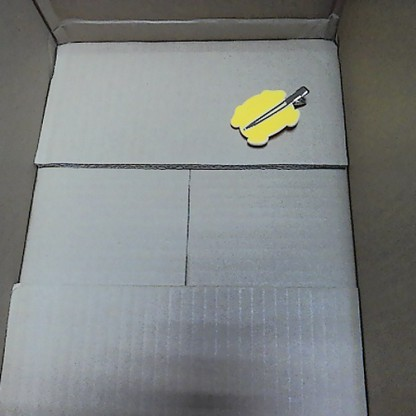dogclip: (230, 84, 309, 146)
